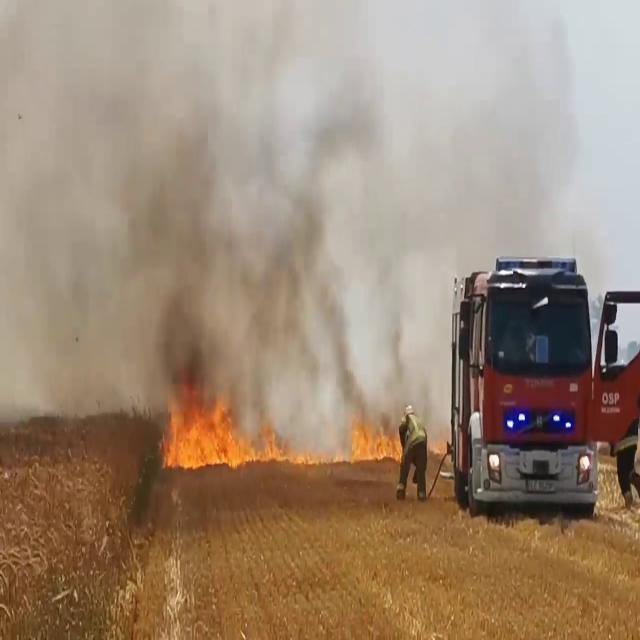Fire: (156, 382, 408, 471)
Smoke: (0, 0, 392, 428)
